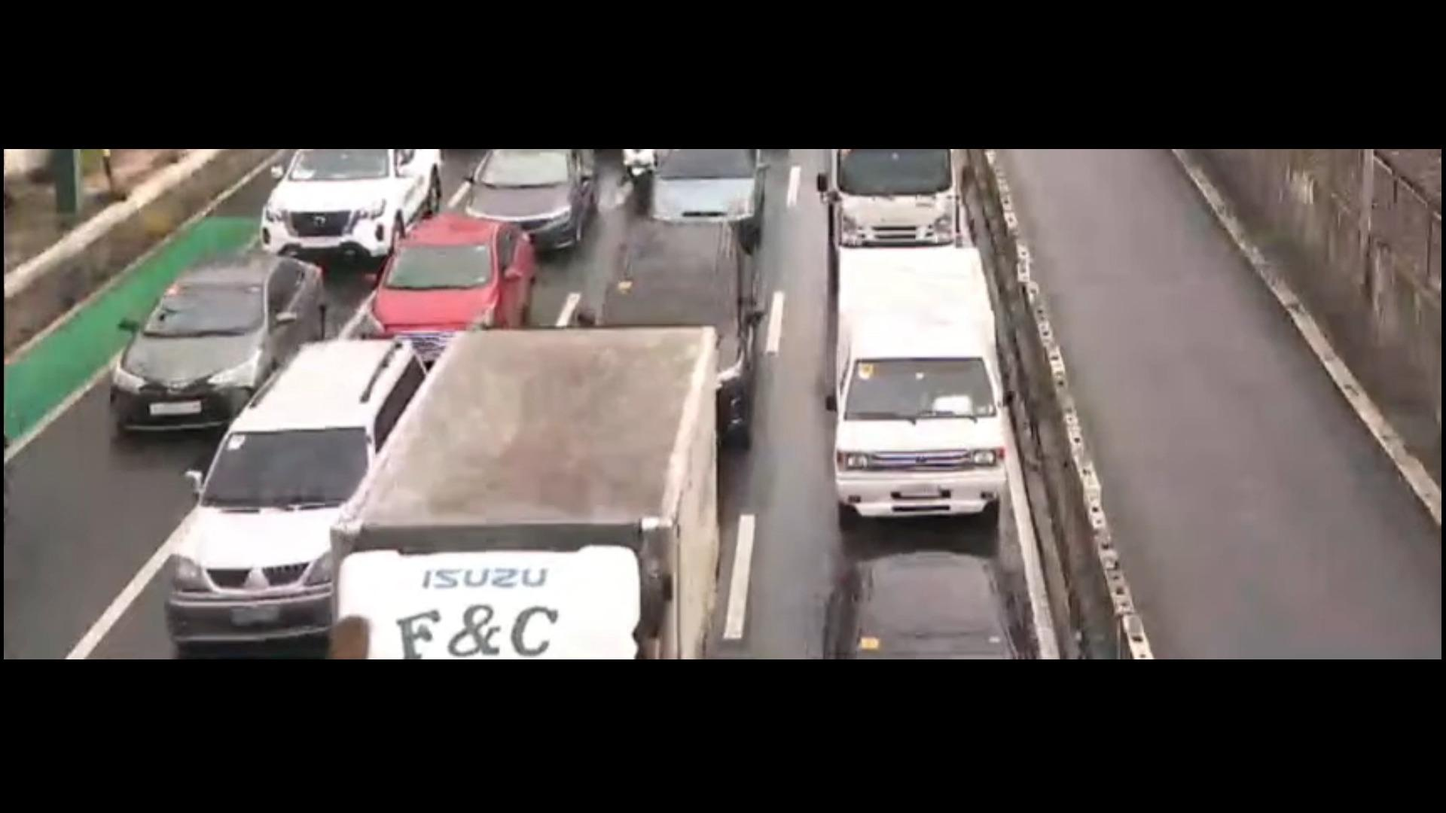SUV: (159, 339, 447, 670), (564, 207, 772, 444), (259, 152, 438, 271)
Sedan: (87, 254, 331, 434), (352, 213, 539, 358), (454, 143, 595, 256)
Truck: (325, 328, 750, 664), (789, 230, 1011, 553), (801, 142, 1004, 261)
